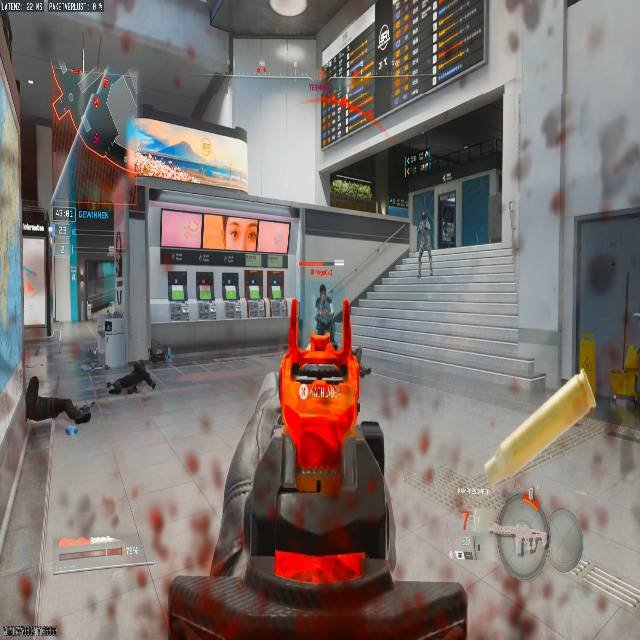head: (318, 284, 326, 296)
player: (313, 284, 336, 347), (312, 282, 330, 313)
